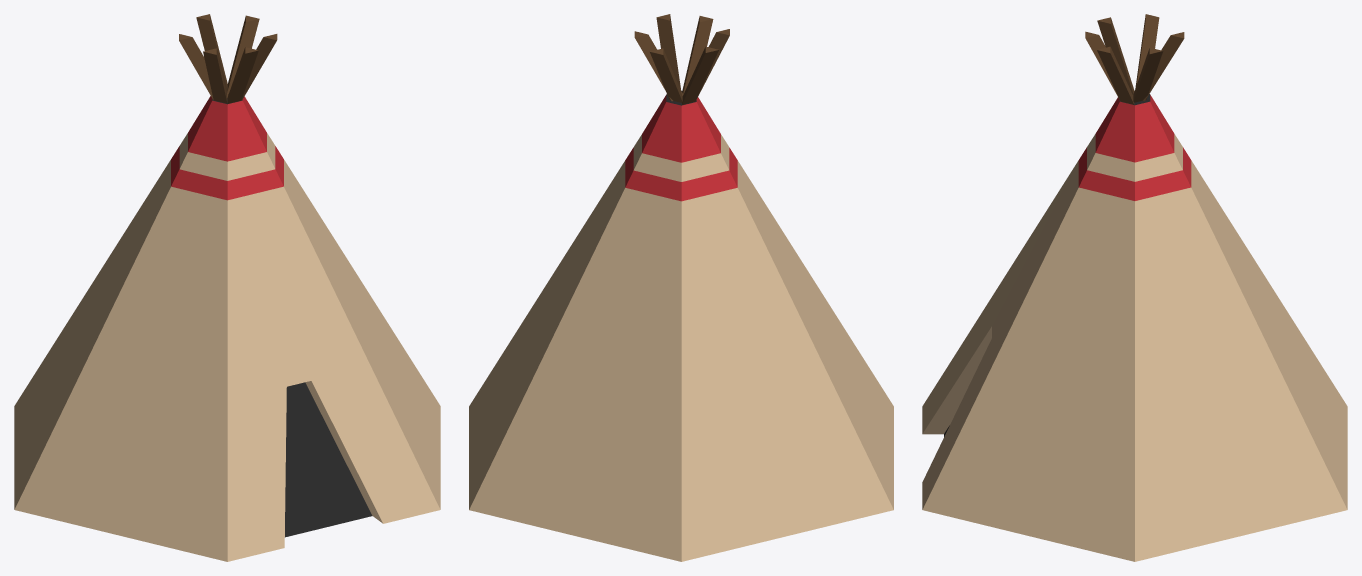
File: western_tent-teepee.fbx
3 renders of one model, left to right at view 1: azimuth 30°, elevation 25°; view 2: azimuth 150°, elevation 25°; view 3: azimuth 270°, elevation 25°, orthographic.
Parts seen in each view (by area): view 1: western_tent_teepee; view 2: western_tent_teepee; view 3: western_tent_teepee.
Boxes of the visible parts, <box> form: western_tent_teepee: <box>14,14,440,561</box>; western_tent_teepee: <box>469,14,893,561</box>; western_tent_teepee: <box>922,14,1347,561</box>.
Size of the model in its own units: 200 by 190 by 173.
